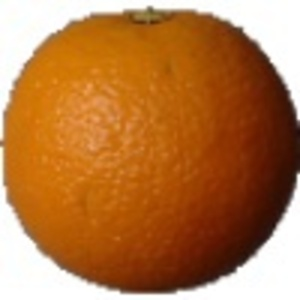laranja: (2, 5, 297, 296)
